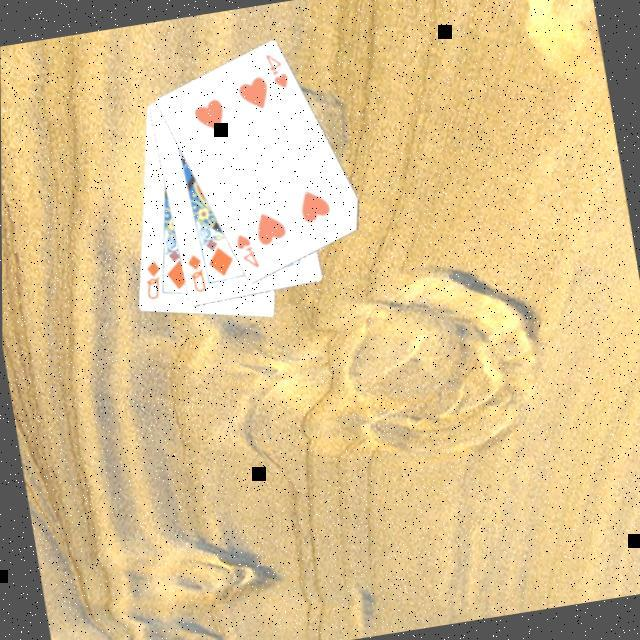4H: (230, 231, 262, 277), (261, 50, 292, 96)
QD: (137, 259, 167, 306), (181, 252, 208, 300)
